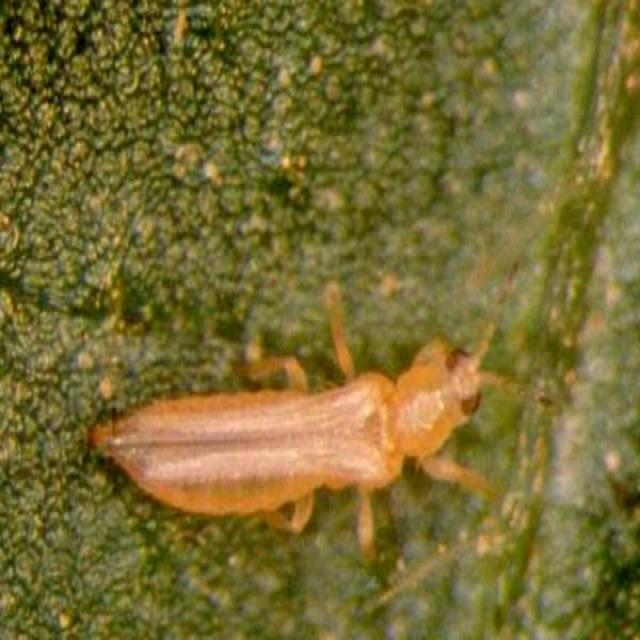Thrip-Adult-: (62, 292, 534, 525)
